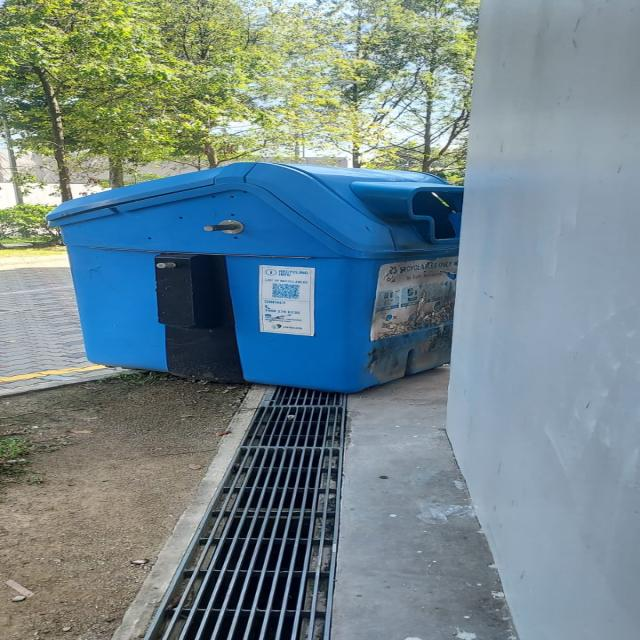bin_empty: (49, 164, 467, 387)
normal_waste: (10, 594, 26, 602)
